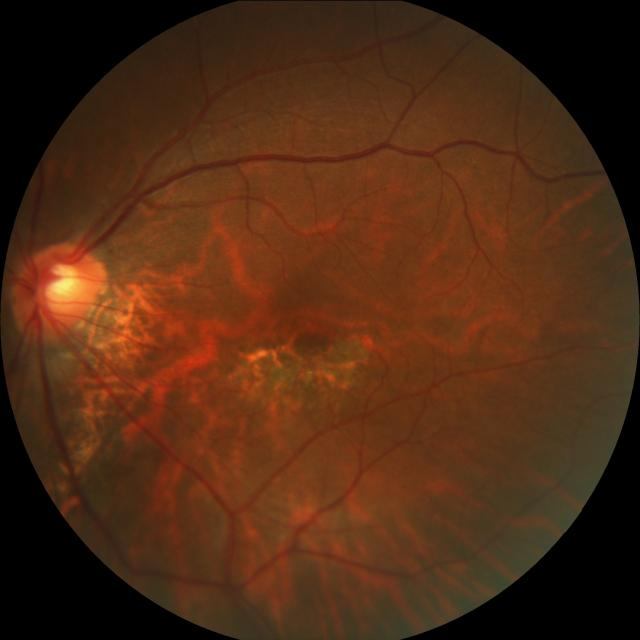OC: (34, 259, 85, 311)
OD: (12, 239, 103, 339)
